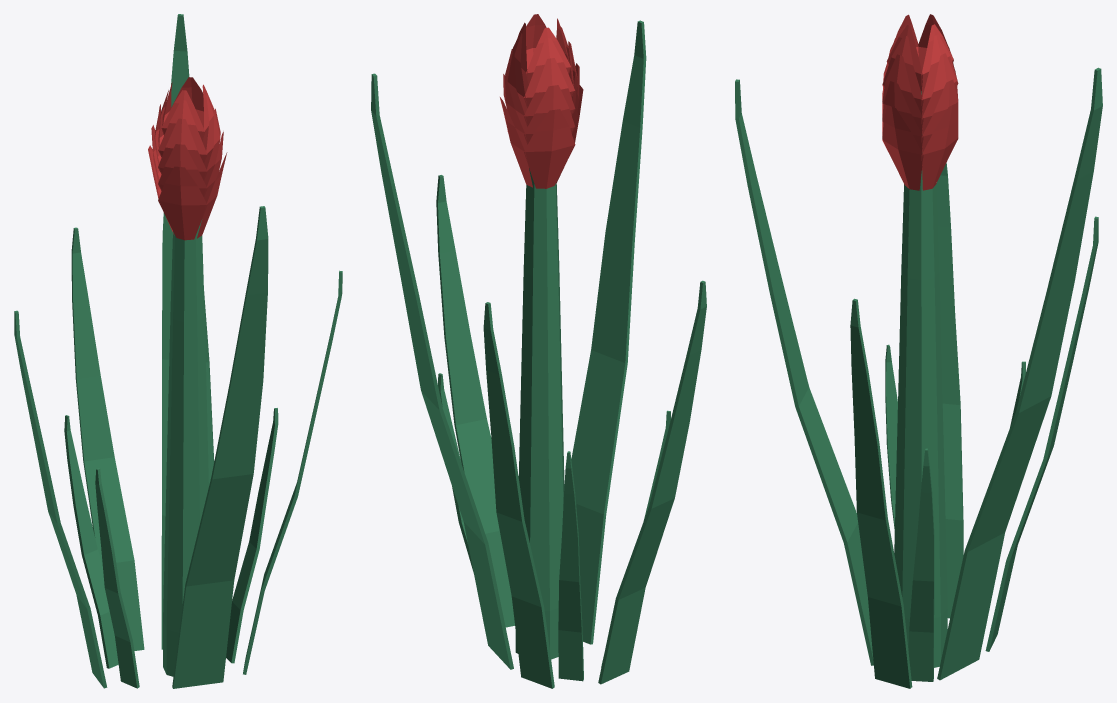
File: Flower3VAR.glb
3 renders of one model, left to right at view 1: azimuth 30°, elevation 25°; view 2: azimuth 150°, elevation 25°; view 3: azimuth 270°, elevation 25°, orthographic. The views are drawn at different scales.
Parts seen in each view (by area): view 1: Flower3VAR.001; view 2: Flower3VAR.001; view 3: Flower3VAR.001.
Boxes of the visible parts, box(x1,y1,x2,y2) form: Flower3VAR.001: box(14, 14, 342, 688); Flower3VAR.001: box(371, 14, 706, 688); Flower3VAR.001: box(735, 14, 1102, 688).
Bounding box in the file's own units: 0.2084 × 0.4034 × 0.2106.
